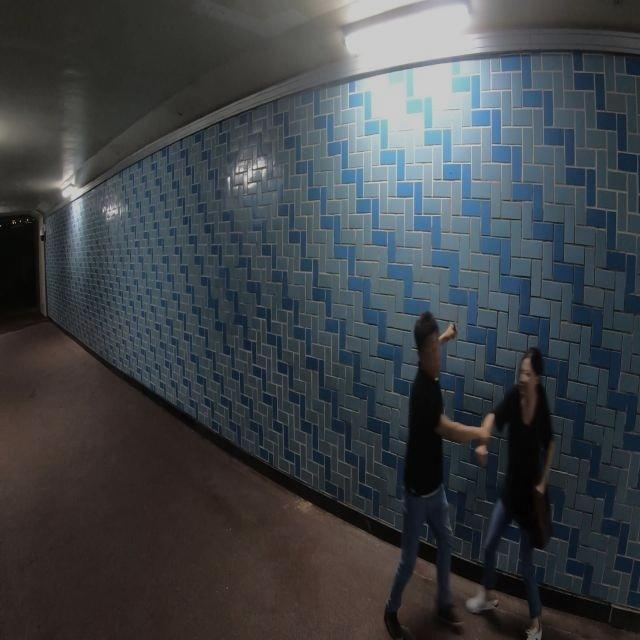fight: (387, 314, 556, 638)
